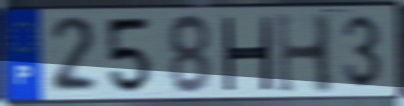2: (47, 14, 101, 98)
3: (340, 13, 385, 92)
5: (105, 15, 159, 96)
8: (166, 12, 214, 97)
H: (274, 10, 337, 96), (219, 15, 274, 93)
